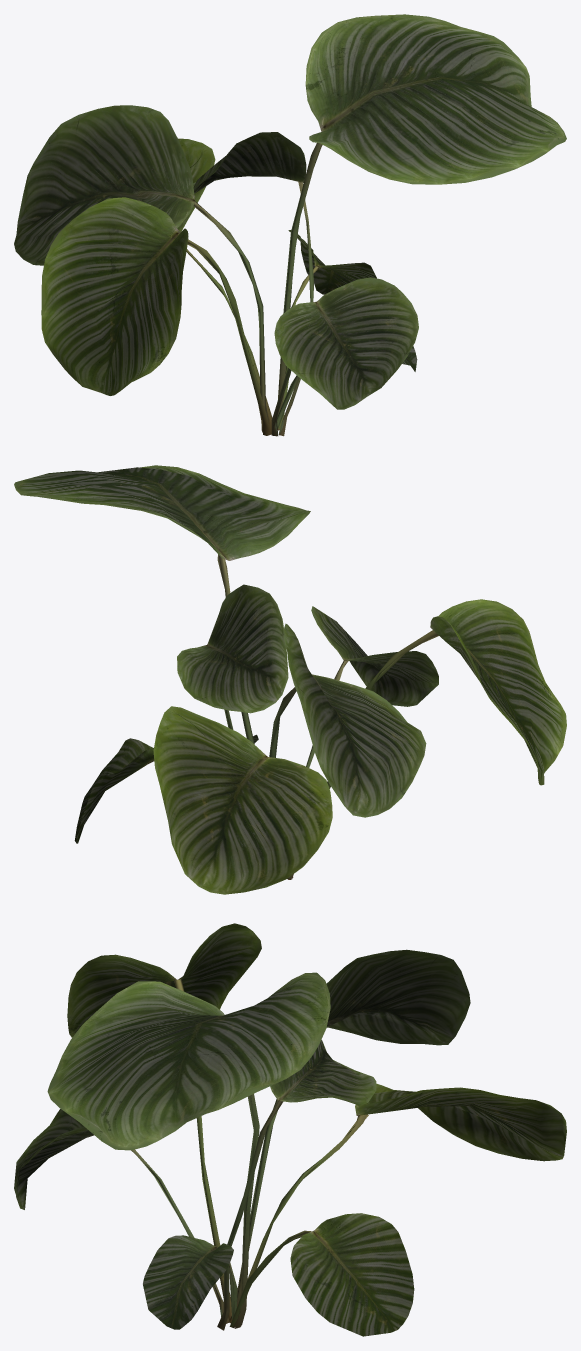
The model's file is calathea_orbifolia_01.gltf.
The picture shows the model from 3 angles, top to bottom: view 1: azimuth 30°, elevation 25°; view 2: azimuth 150°, elevation 25°; view 3: azimuth 270°, elevation 25°; orthographic projection. The views are drawn at different scales.
Parts seen in each view (by area): view 1: calathea_orbifolia_01_a; view 2: calathea_orbifolia_01_a; view 3: calathea_orbifolia_01_a.
Part boxes in pixels (bbox=[...]): calathea_orbifolia_01_a: bbox=[14, 14, 566, 436]; calathea_orbifolia_01_a: bbox=[14, 465, 566, 894]; calathea_orbifolia_01_a: bbox=[14, 923, 566, 1336].
Size of the model in its own units: 0.6015 by 0.4246 by 0.5248.
1 material, 1 textured.
